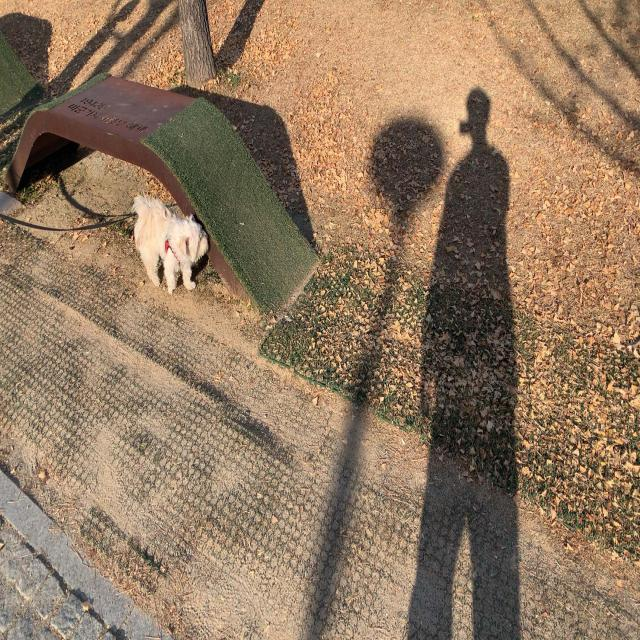Dog: (130, 185, 211, 297)
